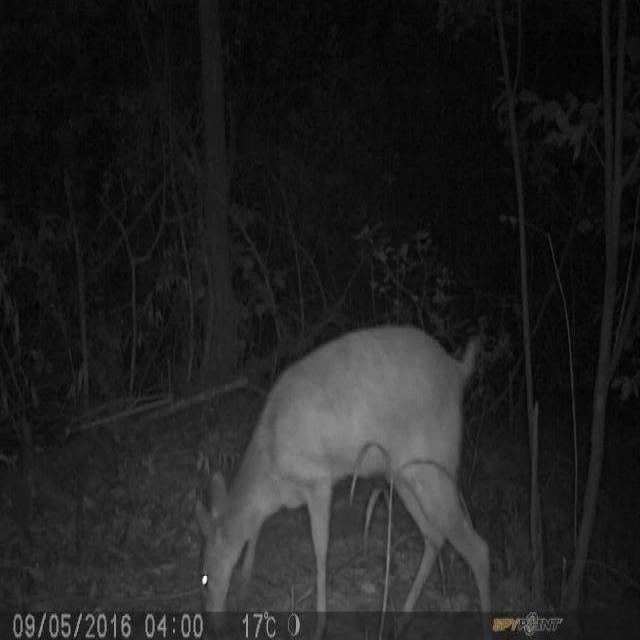deer: (196, 323, 493, 610)
